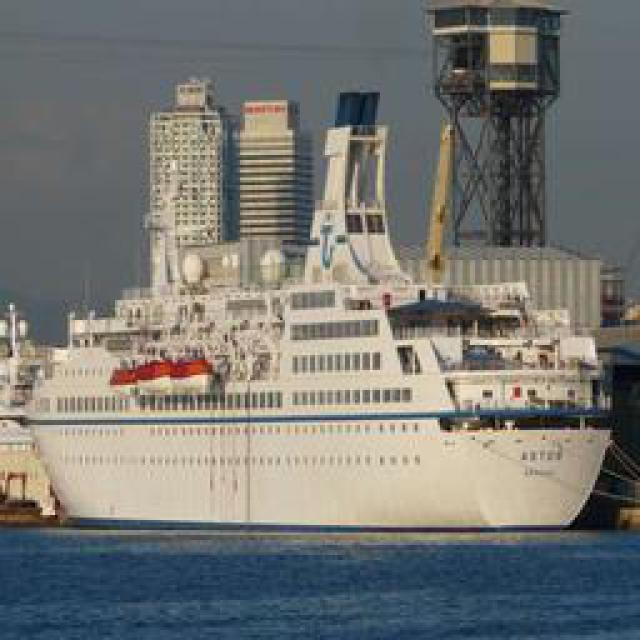Ship: (15, 254, 610, 539)
